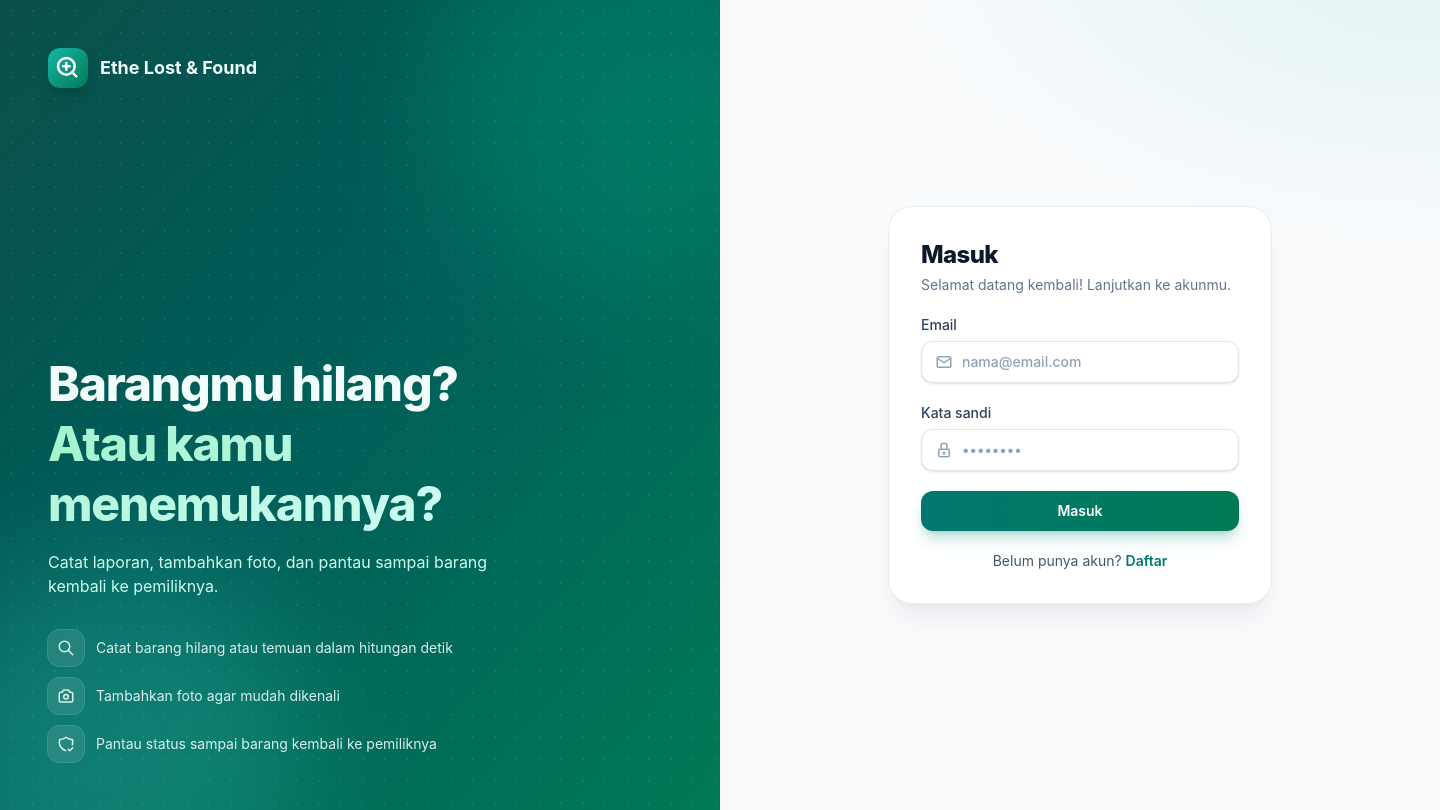
it: Login & Register pages › logs in and lands on the home page
The image size is (1440, 810).
In the field with id "login-email-input": coordinates (1080, 362) [921, 341, 1239, 383], type "b@x.com"
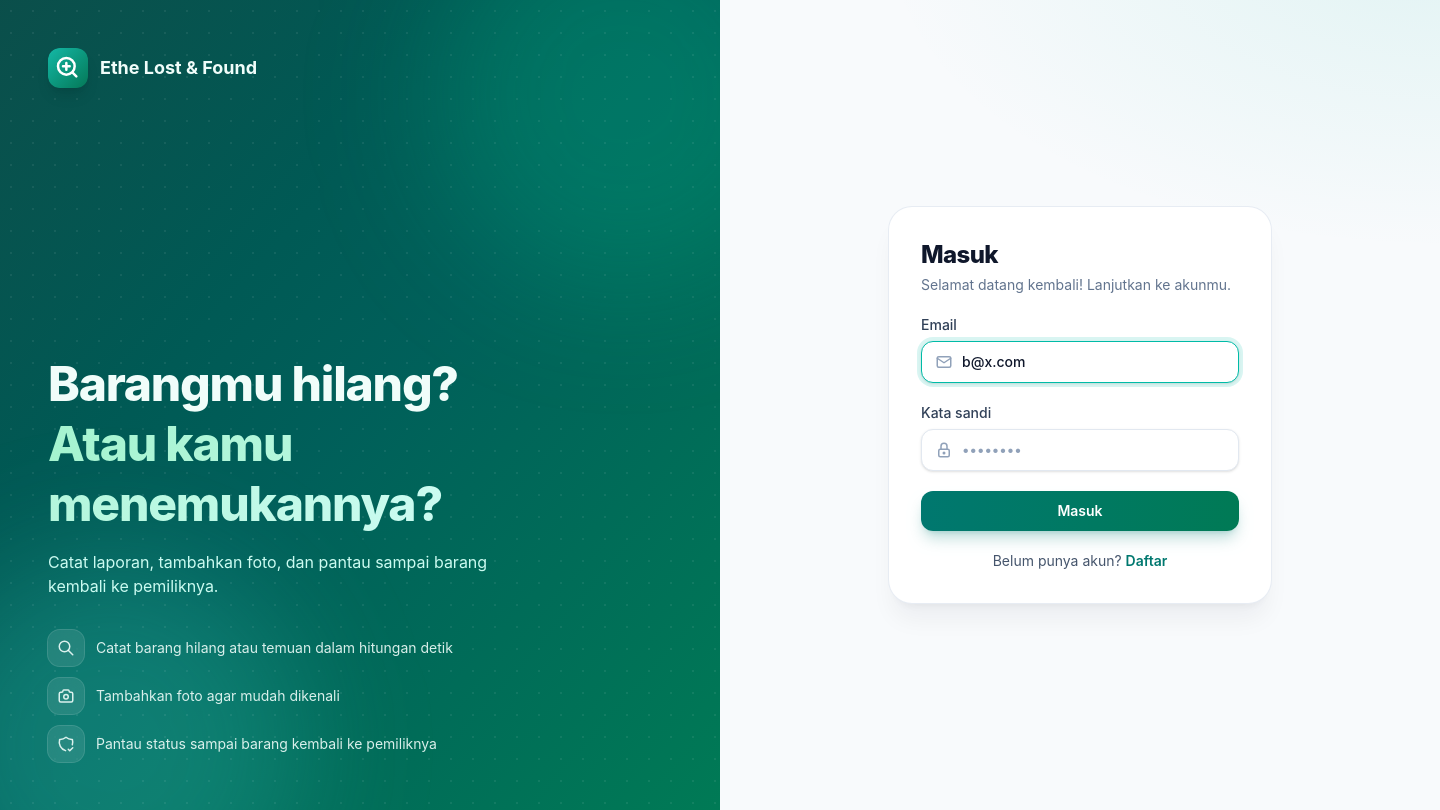
In the password field with id "login-password-input": coordinates (1080, 450) [921, 429, 1239, 471], type "secret1"
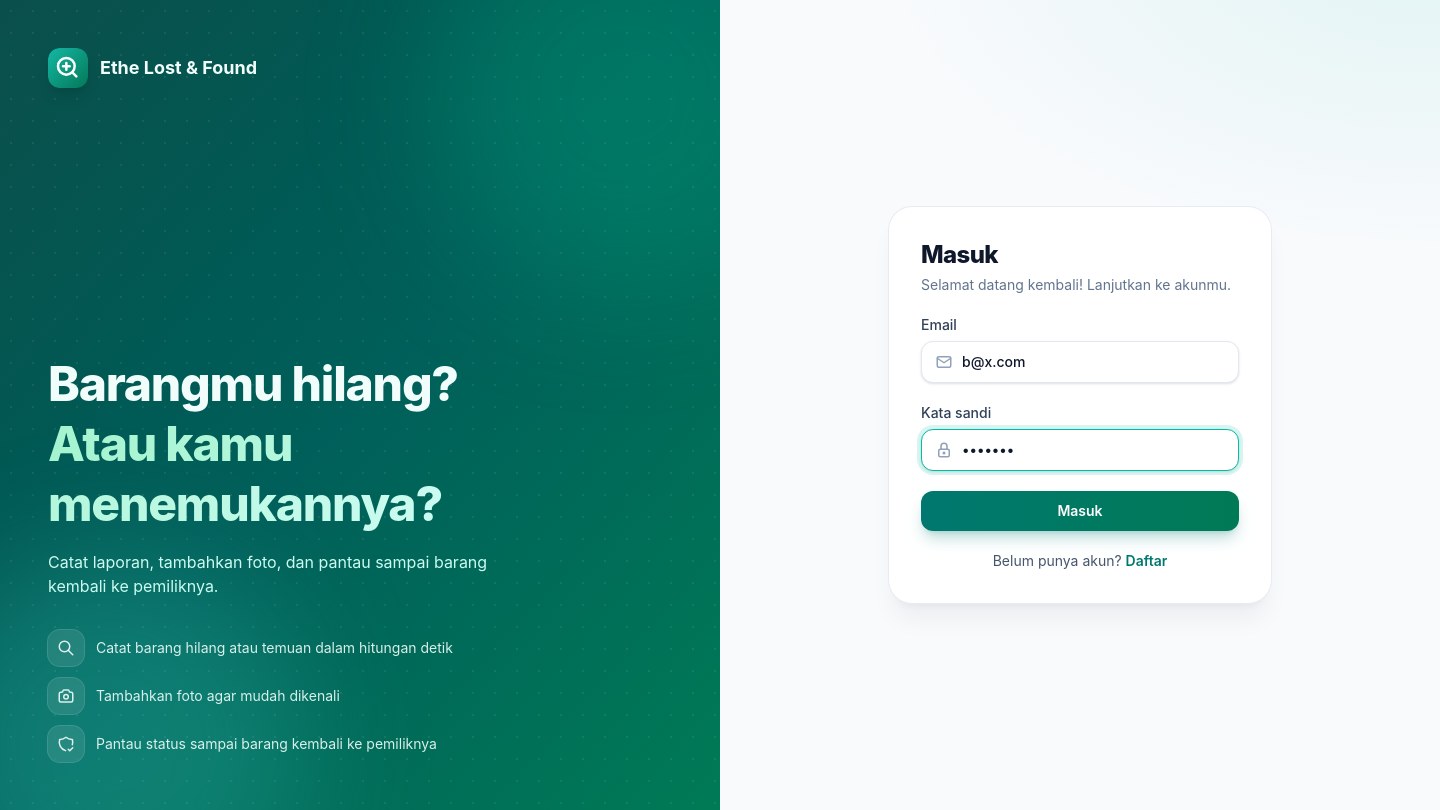
Click the button "Masuk": coordinates (1080, 511) [921, 491, 1239, 531]
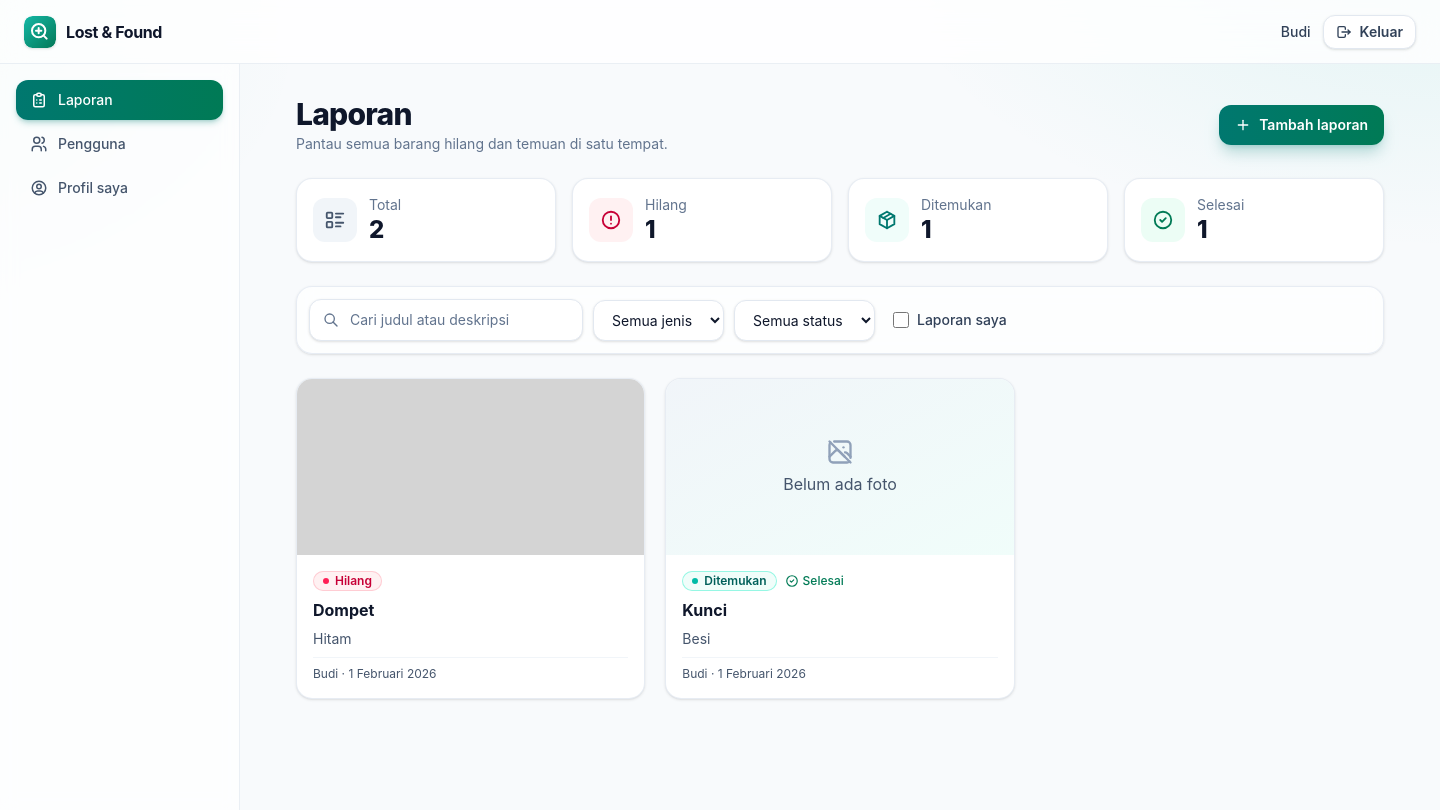
Expected: the heading "Laporan" is shown, [296, 96, 412, 132]
